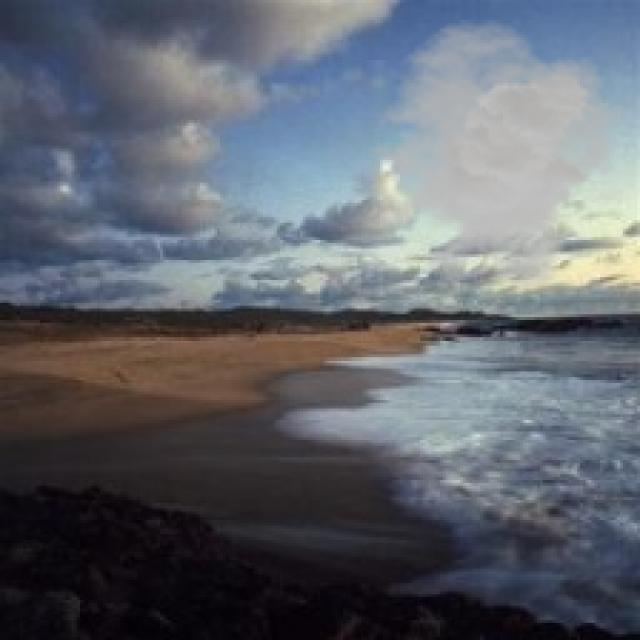smoke: (354, 20, 626, 291)
